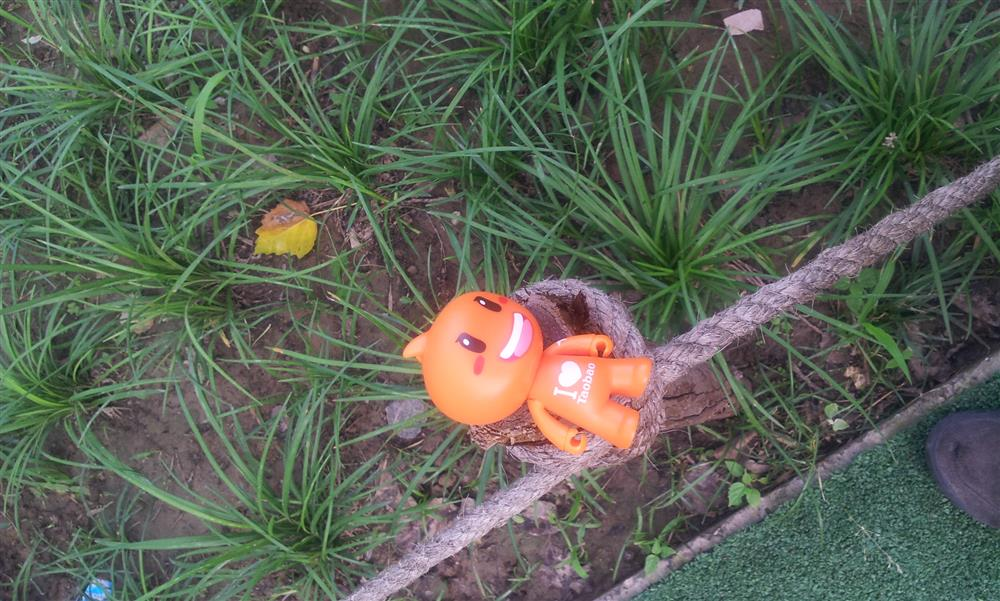toy_taobao: (381, 281, 671, 473)
